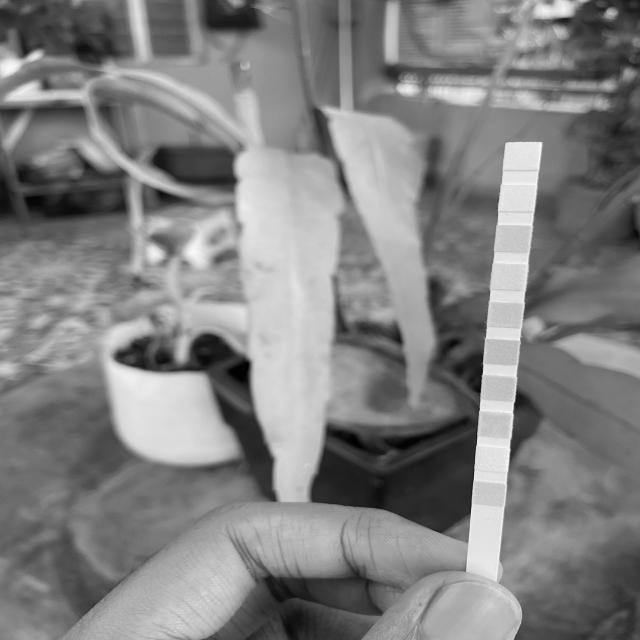Bilirubin: (476, 449, 509, 470)
Blood: (486, 341, 518, 364)
Glucose: (473, 484, 505, 504)
Ketone: (479, 414, 512, 436)
Leukocytes: (506, 143, 538, 170)
Nitrite: (500, 186, 534, 211)
Protein: (492, 264, 526, 289)
SpGravity: (483, 377, 516, 399)
Urobilinogen: (496, 226, 530, 251)
background: (0, 0, 640, 640)
pH: (488, 304, 522, 326)
strip: (466, 143, 541, 554)
